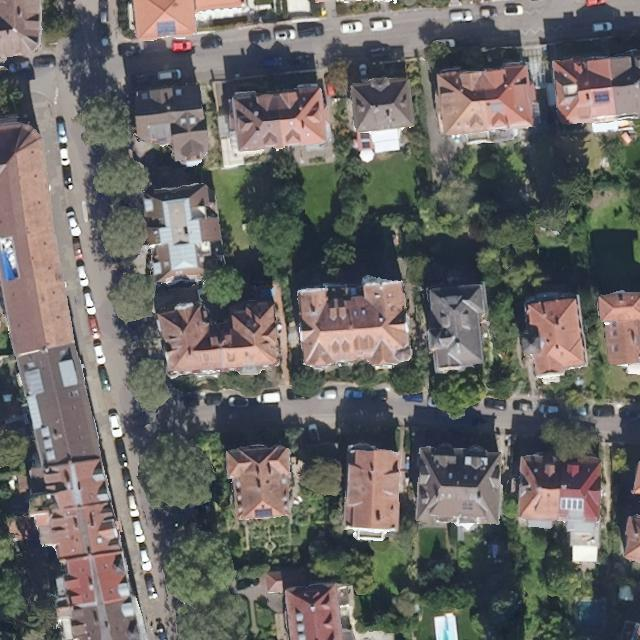PV: (561, 497, 583, 512), (255, 508, 273, 519), (594, 92, 609, 102), (462, 499, 473, 511)
